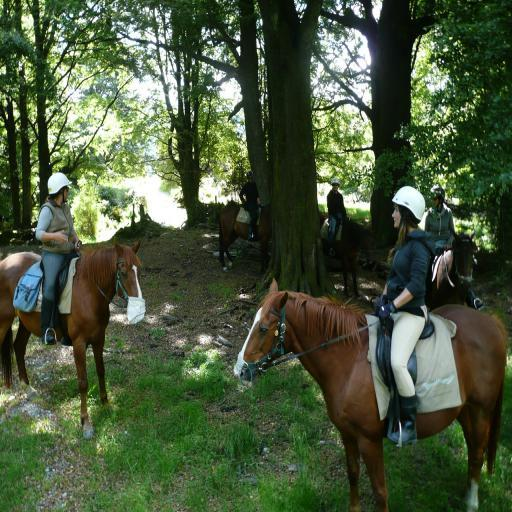Horse: (234, 278, 508, 512), (0, 238, 146, 440), (315, 210, 373, 298), (428, 227, 476, 315), (219, 200, 273, 273)
